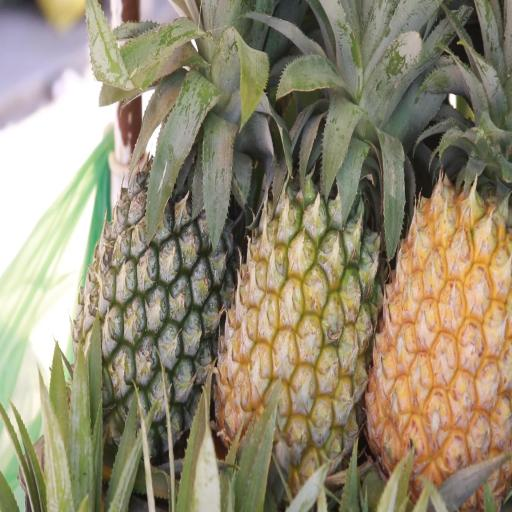------------------------------: (214, 44, 383, 500)
Pineapple - v8 v1: (361, 32, 512, 512)
